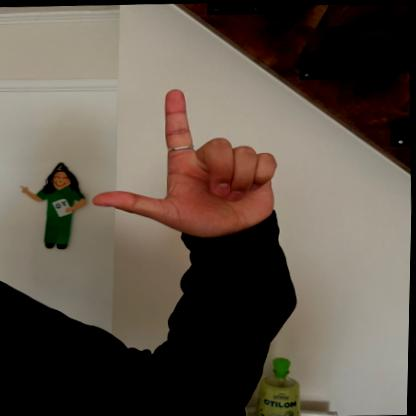L: (85, 78, 288, 249)
